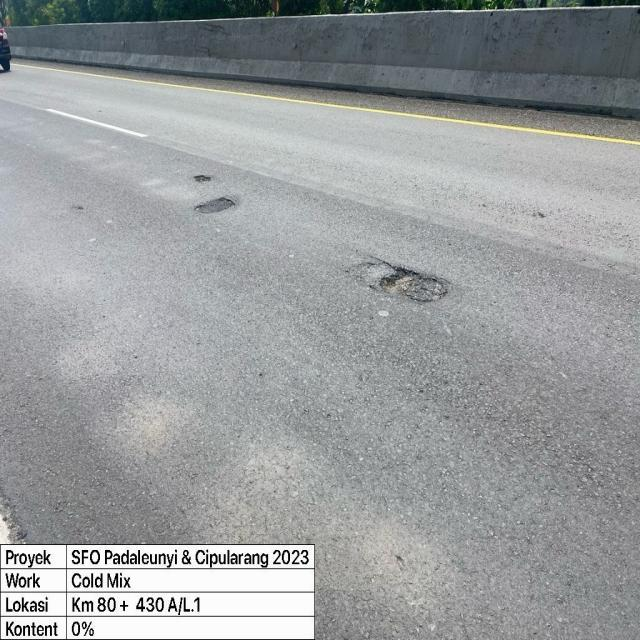Buraco: (351, 259, 453, 305), (191, 195, 238, 216), (192, 173, 213, 185)
